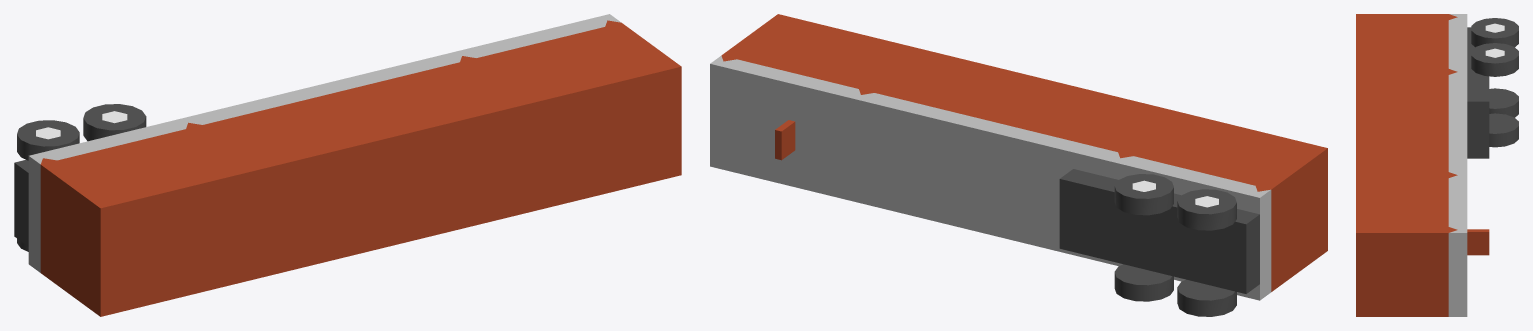
File: trailer.dae
3 renders of one model, left to right at view 1: azimuth 30°, elevation 25°; view 2: azimuth 150°, elevation 25°; view 3: azimuth 270°, elevation 25°, orthographic. The views are drawn at different scales.
Visible parts, largest first — view 1: coords_ME_ID19_MA_material_14, coords_ME_ID3_MA_material_11, coords_ME_ID33_MA_material; view 2: coords_ME_ID3_MA_material_11, coords_ME_ID19_MA_material_14, coords_ME_ID33_MA_material, coords_ME_ID11_MA_material_14; view 3: coords_ME_ID19_MA_material_14, coords_ME_ID33_MA_material, coords_ME_ID3_MA_material_11, coords_ME_ID11_MA_material_14, coords_ME_ID47_MA_material_25, coords_ME_ID53_MA_material_25.
Part boxes in pixels (box(x1,y1,x2,y2)): coords_ME_ID19_MA_material_14: box(40, 20, 681, 316); coords_ME_ID3_MA_material_11: box(28, 14, 620, 272); coords_ME_ID33_MA_material: box(14, 104, 146, 251); coords_ME_ID3_MA_material_11: box(710, 55, 1271, 300); coords_ME_ID19_MA_material_14: box(721, 14, 1327, 291); coords_ME_ID33_MA_material: box(1059, 169, 1259, 316); coords_ME_ID11_MA_material_14: box(775, 120, 795, 160); coords_ME_ID19_MA_material_14: box(1356, 14, 1457, 316); coords_ME_ID33_MA_material: box(1467, 18, 1518, 158); coords_ME_ID3_MA_material_11: box(1448, 14, 1467, 316); coords_ME_ID11_MA_material_14: box(1467, 229, 1489, 255); coords_ME_ID47_MA_material_25: box(1485, 23, 1504, 32); coords_ME_ID53_MA_material_25: box(1485, 48, 1504, 57).
Bounding box in the file's own units: 95.24 × 17.01 × 29.9.
